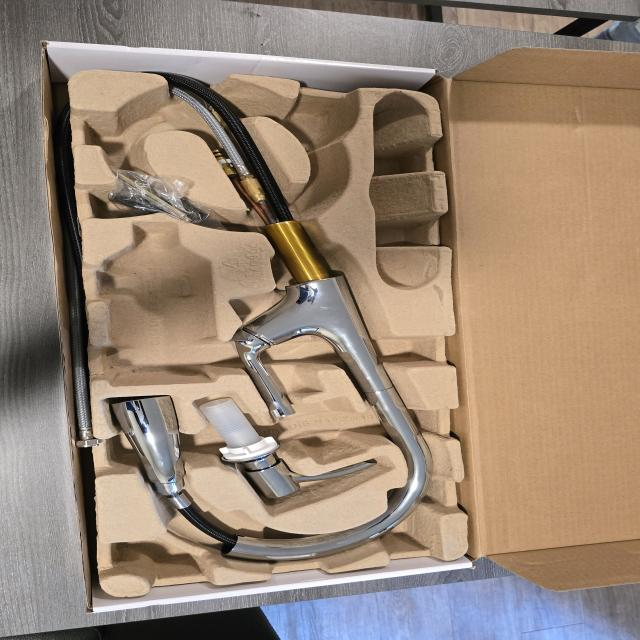1: (108, 69, 434, 561)
2: (196, 397, 376, 501)
3m: (105, 221, 213, 384)
4m: (370, 93, 439, 289)
5m: (283, 96, 353, 146)
6m: (84, 102, 174, 161)
7: (101, 167, 215, 223)
